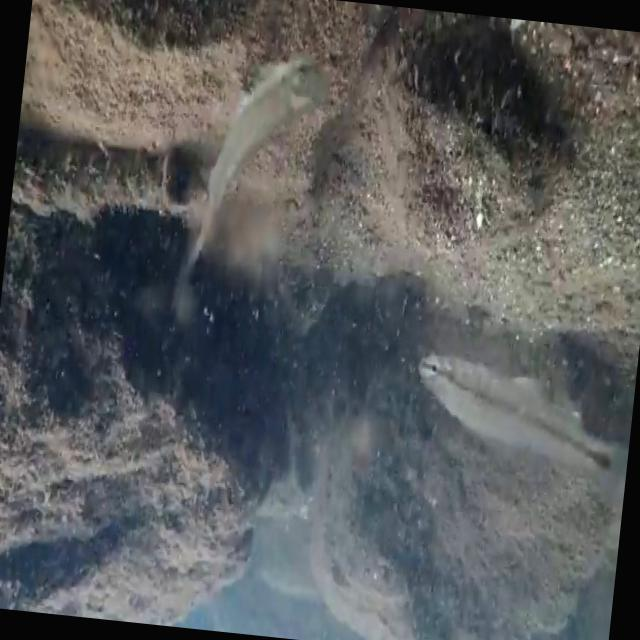Cakil Baligi: (180, 34, 330, 301), (407, 355, 636, 511)
